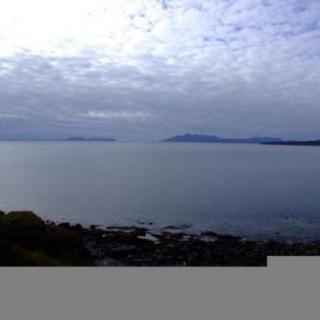Altocumulus: (0, 0, 320, 138)
